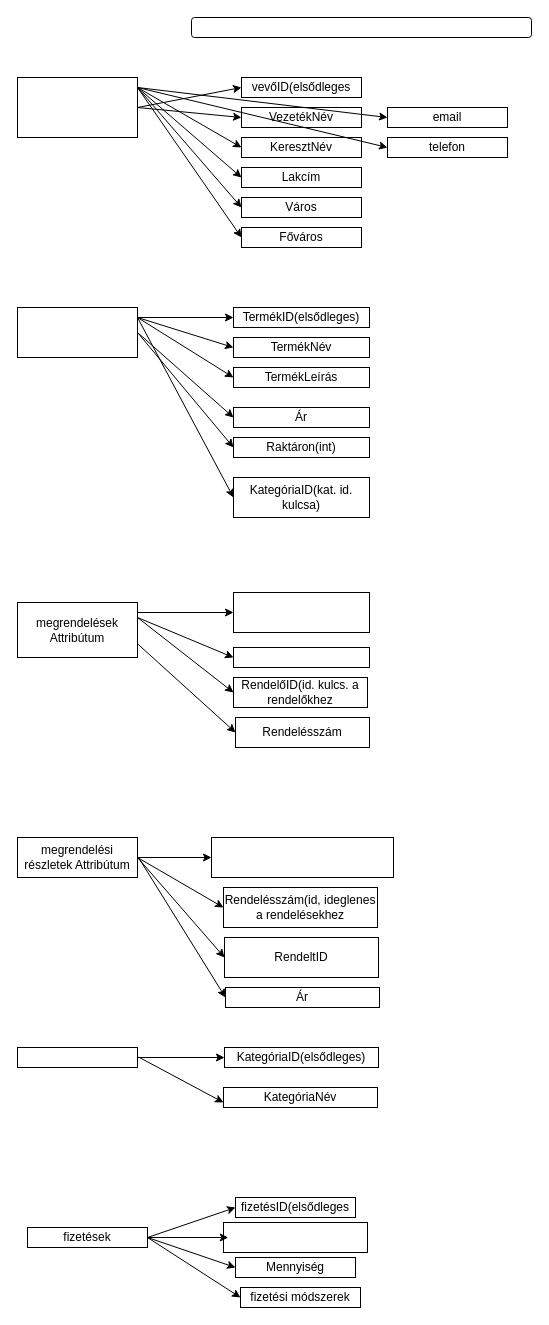
Some shapes in this 549 by 1325 pixel diagram are drawn without their labels. Each missing label, with the box of its shape:
fizetésinap(ideiglenes kulcs a rendelésekhez: (222, 1222, 368, 1252)
kategóriák att.: (16, 1046, 138, 1068)
RendeltIDRészletek(elsődleg.: (210, 836, 394, 878)
RendelésID(elsődleges kulcs): (232, 592, 370, 632)
RendelésiNap: (232, 646, 370, 668)
Termékek: (190, 16, 532, 38)
termékek Egyed Attribútum: (16, 306, 138, 358)
vevők Egyed Attribútum: (16, 76, 138, 138)
